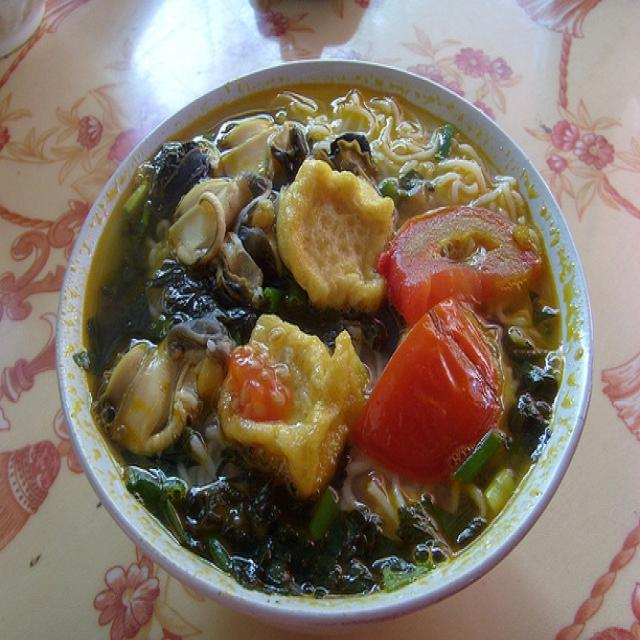面条主食: (62, 61, 597, 596)
